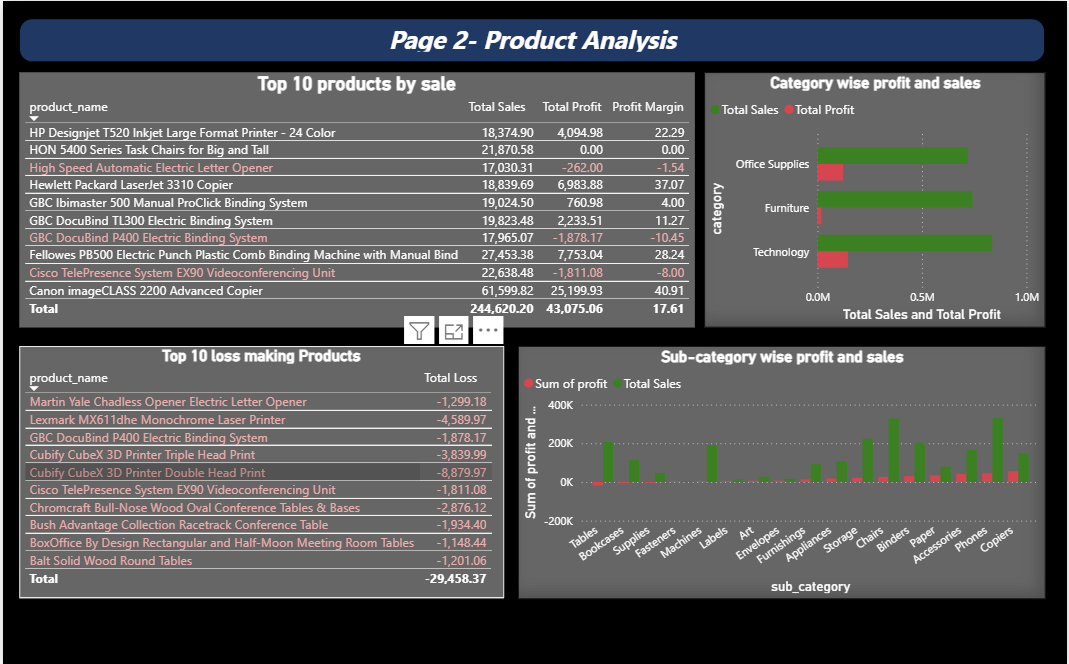

What the dashboard file says about the page in this screenshot:
{"tool":"powerbi","page":{"name":"Page 2","canvas":[1150,720],"ordinal":1},"visuals":[{"type":"clusteredBarChart","title":"Category wise profit and sales","fields":{"Category":["sales_data.category"],"Y":["sales_data.Total Sales","sales_data.Total Profit"]},"box":[757.5,77.5,368.8,276.2],"z":0},{"type":"clusteredColumnChart","title":"Sub-category wise profit and sales","fields":{"Category":["sales_data.sub_category"],"Y":["Sum(sales_data.profit)","sales_data.Total Sales"]},"box":[556.2,372.5,570,273.8],"z":1000},{"type":"tableEx","title":"Top 10 products by sale","fields":{"Values":["sales_data.product_name","sales_data.Total Sales","sales_data.Total Profit","sales_data.Profit Margin"]},"box":[17.5,77.5,730,276.2],"z":2000},{"type":"tableEx","title":"Top 10 loss making Products","fields":{"Values":["sales_data.product_name","sales_data.Total Profit"]},"box":[17.5,372.5,523.8,273.8],"z":3000},{"type":"card","fields":{"Values":["sales_data.PAge_2"]},"box":[17.5,18.8,1108.8,47.5],"z":4000}]}

Visuals, with their boxes in screenshot pixels (x1, y1, x2, y2), scaled from the page's 1150x720 canvas onto the 1069x664 screenshot:
"Category wise profit and sales" clusteredBarChart: (left=704, top=71, right=1047, bottom=326)
"Sub-category wise profit and sales" clusteredColumnChart: (left=517, top=344, right=1047, bottom=596)
"Top 10 products by sale" tableEx: (left=16, top=71, right=695, bottom=326)
"Top 10 loss making Products" tableEx: (left=16, top=344, right=503, bottom=596)
card - sales_data.PAge_2: (left=16, top=17, right=1047, bottom=61)
